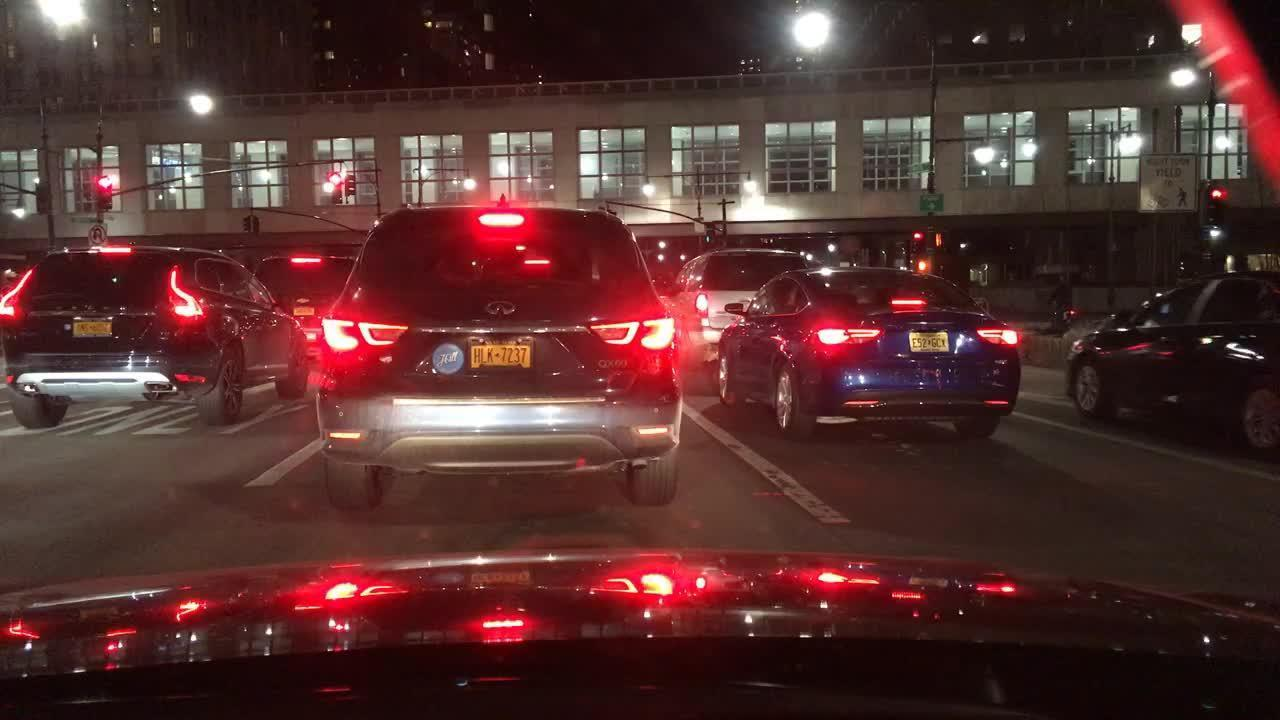Infiniti: (476, 291, 524, 320)
